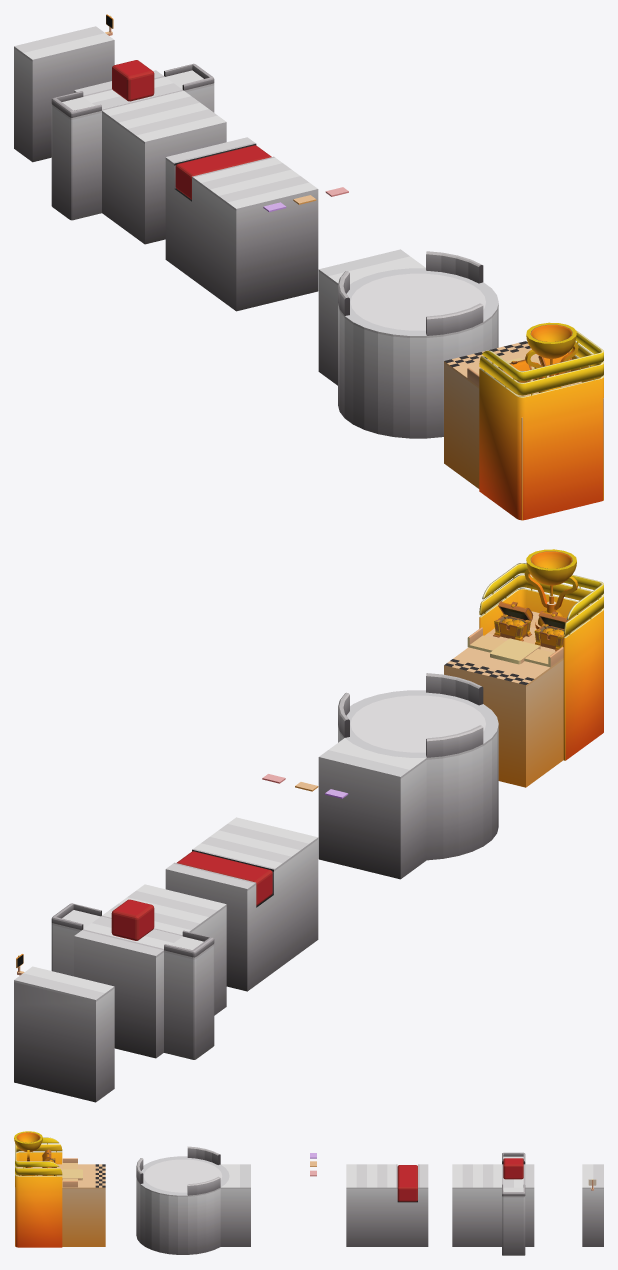
File: mathparkour_assets.fbx
The picture shows the model from 3 angles, top to bottom: view 1: azimuth 30°, elevation 25°; view 2: azimuth 150°, elevation 25°; view 3: azimuth 270°, elevation 25°; orthographic projection. The views are drawn at different scales.
Visible parts, largest first — view 1: mathparkour_platform_final, mathparkour_platform_hole, mathparkour_platform_circle, mathparkour_platform_standart, mathparkour_platform_short, mathparkour_obstacle_standartplatform, mathparkour_platform_middle, mathparkour_platform_circle.top, mathparkour_cup, mathparkour_obstacle.hole, mathparkour_obstacle.standart; view 2: mathparkour_platform_final, mathparkour_platform_hole, mathparkour_platform_circle, mathparkour_platform_middle, mathparkour_platform_standart, mathparkour_platform_short, mathparkour_obstacle_standartplatform, mathparkour_platform_circle.top, mathparkour_cup, mathparkour_goldchests, mathparkour_platform_final.platform, mathparkour_obstacle.hole (+1 smaller); view 3: mathparkour_platform_final, mathparkour_platform_circle, mathparkour_platform_hole, mathparkour_platform_standart, mathparkour_platform_middle, mathparkour_obstacle_standartplatform, mathparkour_platform_short, mathparkour_platform_circle.top, mathparkour_obstacle.hole, mathparkour_cup, mathparkour_platform_final.platform, mathparkour_obstacle.standart.
Boxes of the visible parts, x1,y1,x2,y2 form: mathparkour_platform_final: [444, 330, 603, 520]; mathparkour_platform_hole: [165, 137, 318, 311]; mathparkour_platform_circle: [338, 268, 498, 438]; mathparkour_platform_standart: [74, 70, 226, 244]; mathparkour_platform_short: [14, 26, 114, 162]; mathparkour_obstacle_standartplatform: [51, 63, 214, 220]; mathparkour_platform_middle: [318, 249, 425, 385]; mathparkour_platform_circle.top: [338, 251, 483, 335]; mathparkour_cup: [525, 322, 578, 393]; mathparkour_obstacle.hole: [175, 145, 271, 199]; mathparkour_obstacle.standart: [112, 60, 154, 101]; mathparkour_platform_final: [444, 563, 603, 787]; mathparkour_platform_hole: [165, 817, 318, 991]; mathparkour_platform_circle: [338, 690, 498, 860]; mathparkour_platform_middle: [318, 738, 426, 879]; mathparkour_platform_standart: [74, 884, 226, 1058]; mathparkour_platform_short: [14, 966, 114, 1102]; mathparkour_obstacle_standartplatform: [51, 903, 214, 1059]; mathparkour_platform_circle.top: [338, 673, 483, 757]; mathparkour_cup: [524, 549, 578, 629]; mathparkour_goldchests: [493, 601, 570, 651]; mathparkour_platform_final.platform: [467, 627, 563, 667]; mathparkour_obstacle.hole: [177, 851, 272, 905]; mathparkour_platform_final: [15, 1137, 105, 1247]; mathparkour_platform_circle: [136, 1156, 229, 1254]; mathparkour_platform_hole: [346, 1164, 428, 1246]; mathparkour_platform_standart: [452, 1164, 534, 1246]; mathparkour_platform_middle: [220, 1164, 250, 1246]; mathparkour_obstacle_standartplatform: [502, 1152, 525, 1255]; mathparkour_platform_short: [582, 1164, 603, 1246]; mathparkour_platform_circle.top: [136, 1146, 220, 1195]; mathparkour_obstacle.hole: [397, 1165, 417, 1201]; mathparkour_cup: [14, 1131, 42, 1175]; mathparkour_platform_final.platform: [59, 1158, 82, 1187]; mathparkour_obstacle.standart: [503, 1158, 523, 1179].
Size of the model in its own units: 22.33 by 25.04 by 137.
